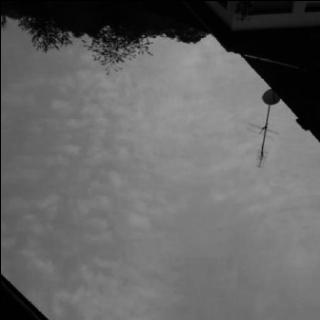Altocumulus: (0, 48, 320, 314)
